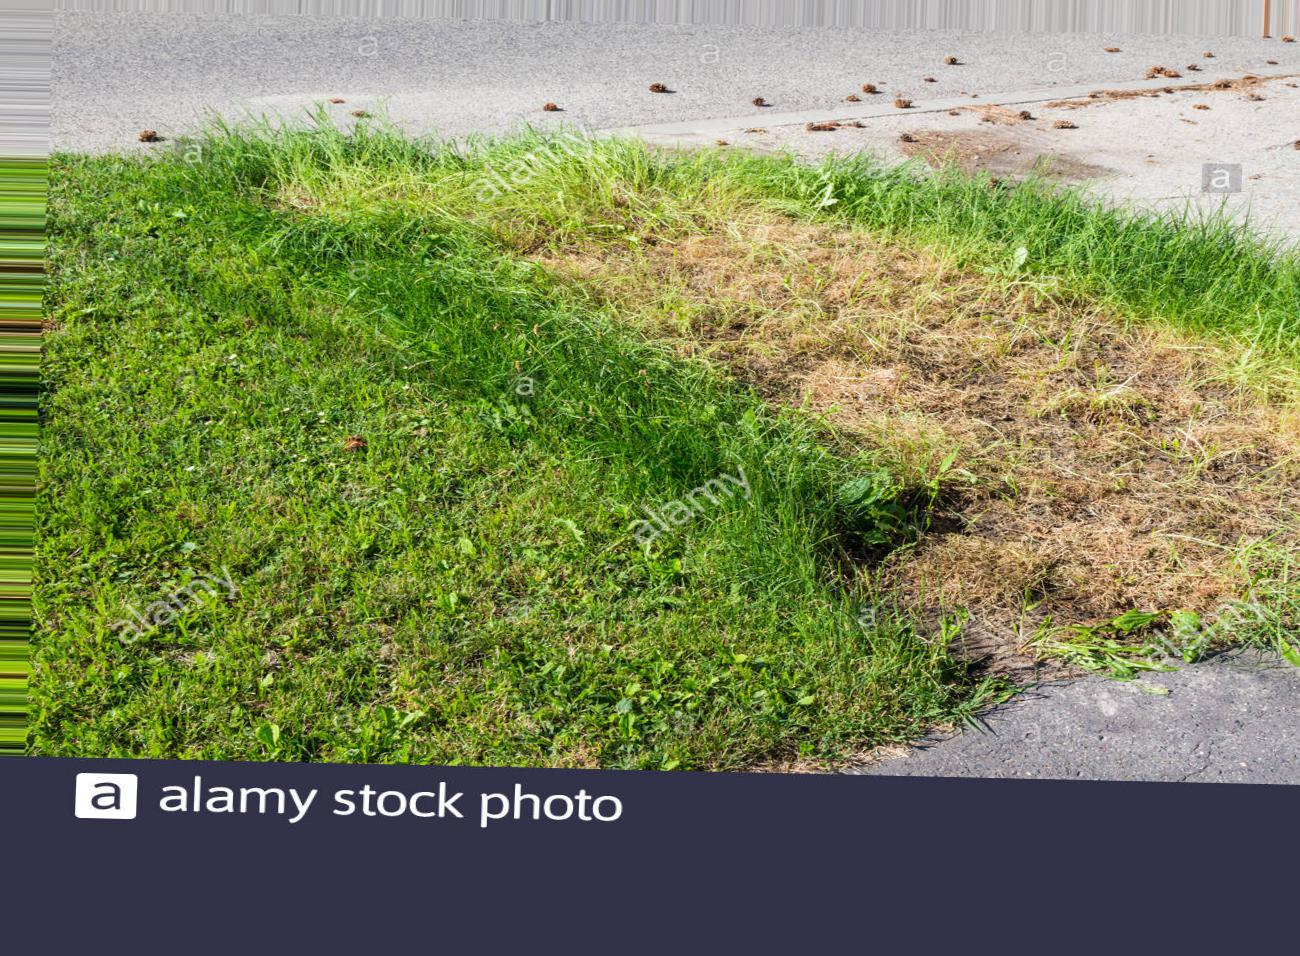patch: (582, 181, 1192, 551)
